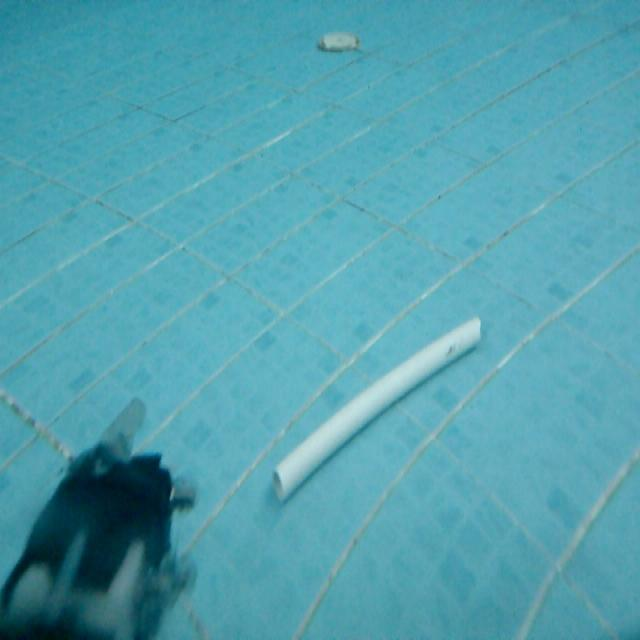Cube: (267, 310, 484, 506)
